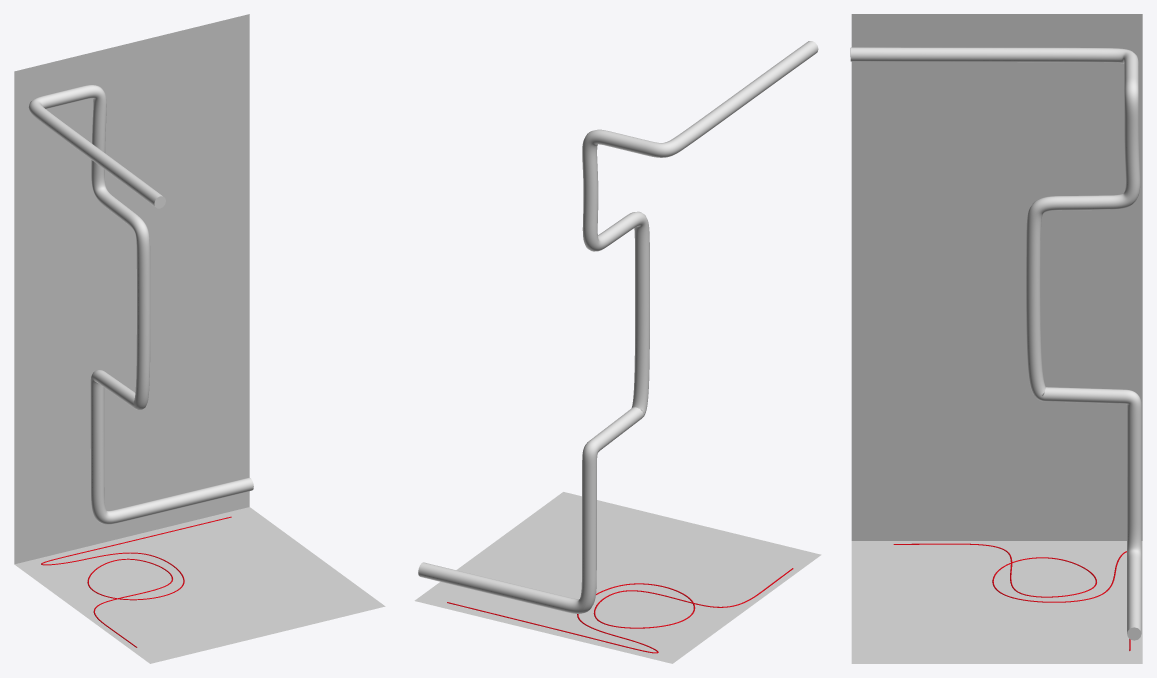
Rendered from LB08_miss03.glb.
3 renders of one model, left to right at view 1: azimuth 30°, elevation 25°; view 2: azimuth 150°, elevation 25°; view 3: azimuth 270°, elevation 25°, orthographic. The views are drawn at different scales.
Parts seen in each view (by area): view 1: Plane.009, Plane.008, Труба, Провод; view 2: Plane.008, Труба, Провод; view 3: Plane.010, Plane.008, Труба, Провод.
Part boxes in pixels (x1,y1,x2,y2): Plane.009: [14, 14, 249, 564]; Plane.008: [14, 507, 385, 663]; Труба: [28, 85, 253, 524]; Провод: [41, 516, 231, 647]; Plane.008: [414, 492, 821, 663]; Труба: [418, 41, 818, 613]; Провод: [447, 568, 793, 653]; Plane.010: [851, 14, 1142, 540]; Plane.008: [851, 541, 1142, 663]; Труба: [850, 47, 1141, 640]; Провод: [893, 543, 1130, 650].
Size of the model in its own units: 2 by 4.01 by 2.01.
